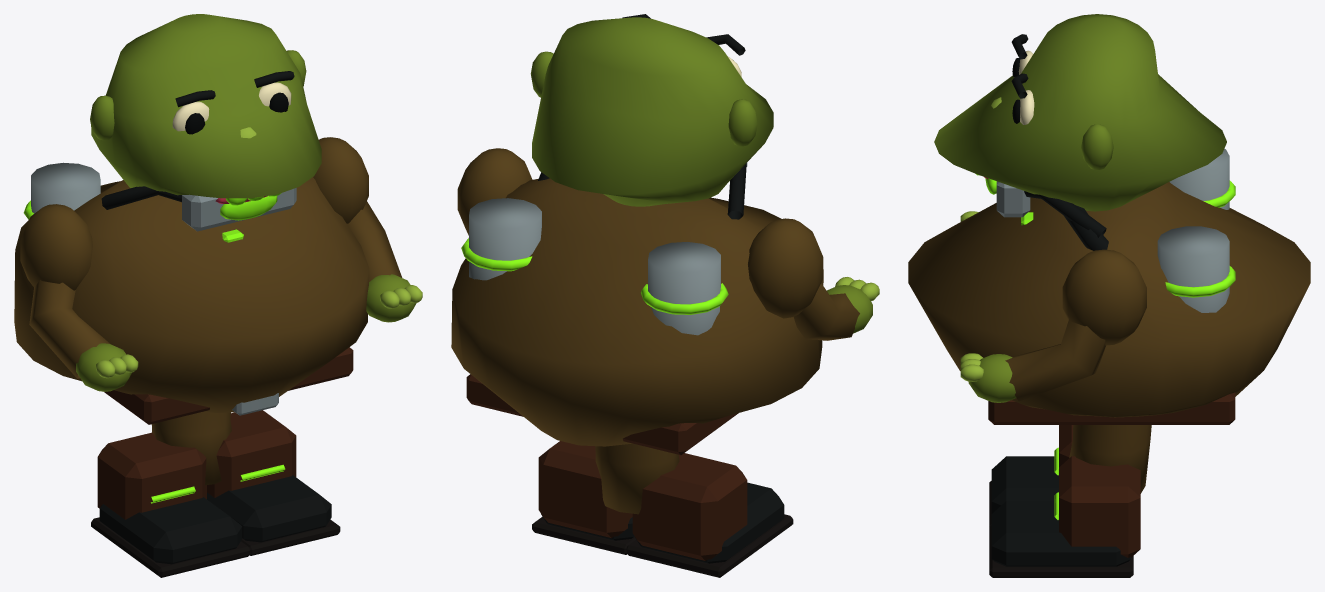
Rendered from spitking.glb.
3 views of the same model, side by side, from view 1: azimuth 30°, elevation 25°; view 2: azimuth 150°, elevation 25°; view 3: azimuth 270°, elevation 25° (orthographic). The views are drawn at different scales.
Visible parts, largest first — view 1: Body, Head, Arms, LegL, LegR; view 2: Body, Head, LegL, Arms, LegR; view 3: Body, Head, LegR, Arms, LegL.
Part boxes in pixels (box(x1,y1,x2,y2)): Body: box(14, 162, 369, 424); Head: box(90, 14, 321, 231); Arms: box(20, 137, 422, 391); LegL: box(91, 411, 250, 577); LegR: box(169, 410, 340, 555); Body: box(451, 172, 823, 455); Head: box(530, 14, 773, 219); LegL: box(595, 443, 793, 577); Arms: box(457, 148, 879, 340); LegR: box(532, 441, 677, 554); Body: box(908, 148, 1310, 424); Head: box(934, 14, 1226, 237); LegR: box(989, 425, 1150, 577); Arms: box(960, 211, 1146, 402); LegL: box(989, 425, 1151, 526).
Size of the model in its own units: 0.8611 by 1.16 by 0.8374.
1 material, 1 textured.
